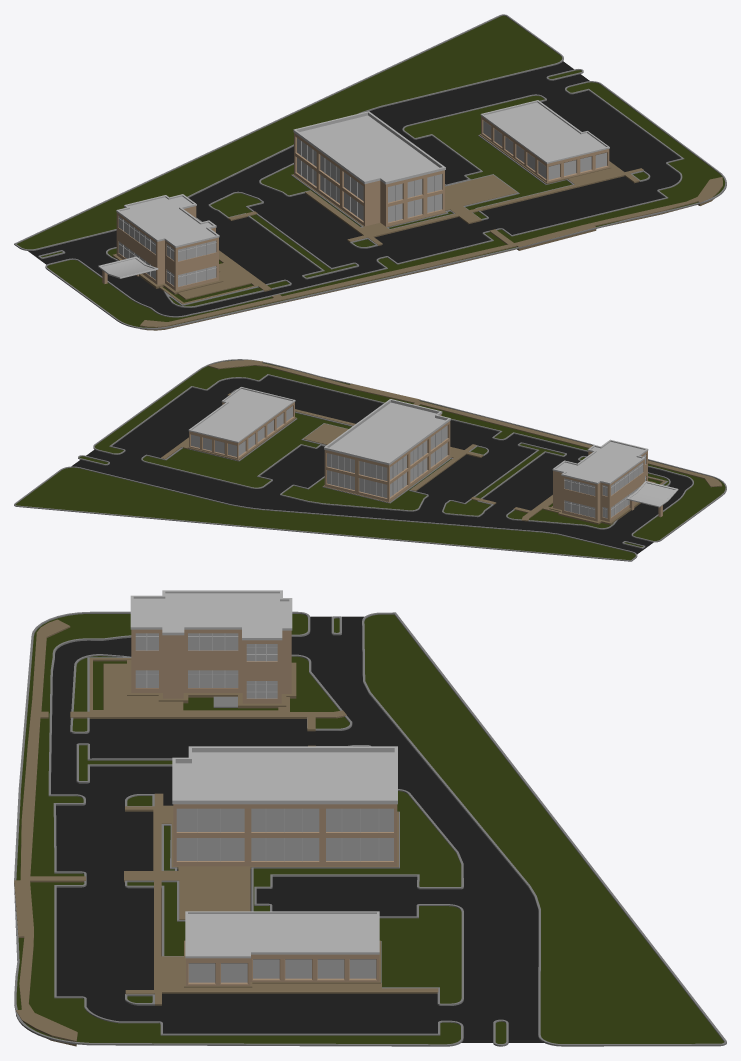
File: free_basic_campus_scene.glb
The picture shows the model from 3 angles, top to bottom: view 1: azimuth 30°, elevation 25°; view 2: azimuth 150°, elevation 25°; view 3: azimuth 270°, elevation 25°; orthographic projection. The views are drawn at different scales.
Parts seen in each view (by area): view 1: polySurface18, grass_pane2, mid_building, grass_pane1, third_building, small_building, grass_pane6, pavement3, pavement4, grass_pane3, pavement1, parking_shade (+1 smaller); view 2: polySurface18, grass_pane2, mid_building, grass_pane1, grass_pane6, third_building, small_building, pavement3, grass_pane3, pavement4, parking_shade, grass_pane4 (+1 smaller); view 3: polySurface18, grass_pane2, mid_building, grass_pane1, third_building, grass_pane6, small_building, pavement4, pavement3, pavement1, grass_pane4, grass_pane13 (+1 smaller).
Boxes of the visible parts, x1=… form: polySurface18: x1=28, y1=61, x2=680, y2=316; grass_pane2: x1=14, y1=14, x2=563, y2=250; mid_building: x1=292, y1=111, x2=446, y2=227; grass_pane1: x1=45, y1=81, x2=726, y2=329; third_building: x1=112, y1=194, x2=223, y2=294; small_building: x1=479, y1=100, x2=610, y2=184; grass_pane6: x1=259, y1=94, x2=574, y2=227; pavement3: x1=139, y1=177, x2=722, y2=330; pavement4: x1=305, y1=161, x2=643, y2=245; grass_pane3: x1=208, y1=191, x2=359, y2=279; pavement1: x1=159, y1=250, x2=271, y2=304; parking_shade: x1=98, y1=256, x2=158, y2=283; polySurface18: x1=71, y1=375, x2=692, y2=554; grass_pane2: x1=14, y1=466, x2=637, y2=561; mid_building: x1=323, y1=399, x2=451, y2=502; grass_pane1: x1=93, y1=359, x2=726, y2=542; grass_pane6: x1=141, y1=411, x2=452, y2=511; third_building: x1=549, y1=439, x2=648, y2=524; small_building: x1=187, y1=387, x2=296, y2=460; pavement3: x1=208, y1=360, x2=722, y2=487; grass_pane3: x1=442, y1=442, x2=566, y2=517; pavement4: x1=161, y1=393, x2=483, y2=491; parking_shade: x1=626, y1=481, x2=678, y2=517; grass_pane4: x1=506, y1=509, x2=618, y2=529; polySurface18: x1=51, y1=616, x2=543, y2=1042; grass_pane2: x1=362, y1=612, x2=726, y2=1046; mid_building: x1=171, y1=746, x2=398, y2=868; grass_pane1: x1=14, y1=611, x2=463, y2=1046; third_building: x1=127, y1=590, x2=296, y2=708; grass_pane6: x1=125, y1=789, x2=463, y2=1005; small_building: x1=184, y1=911, x2=380, y2=987; pavement4: x1=124, y1=793, x2=438, y2=1005; pavement3: x1=14, y1=619, x2=85, y2=1046; pavement1: x1=70, y1=658, x2=346, y2=731; grass_pane4: x1=290, y1=654, x2=352, y2=730; grass_pane13: x1=70, y1=654, x2=131, y2=733.
Size of the model in its own units: 1.75 by 0.1369 by 1.22.
